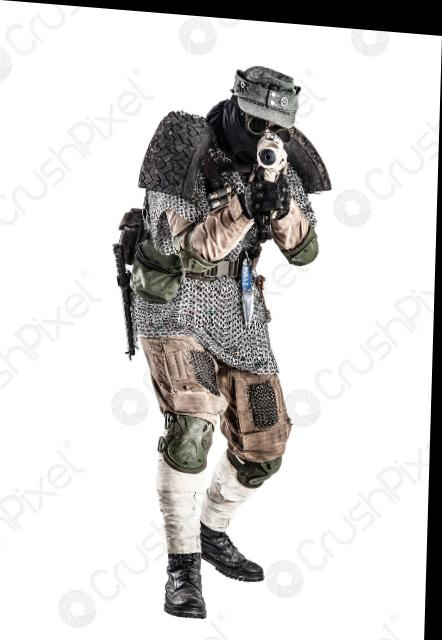other: (82, 42, 326, 588)
